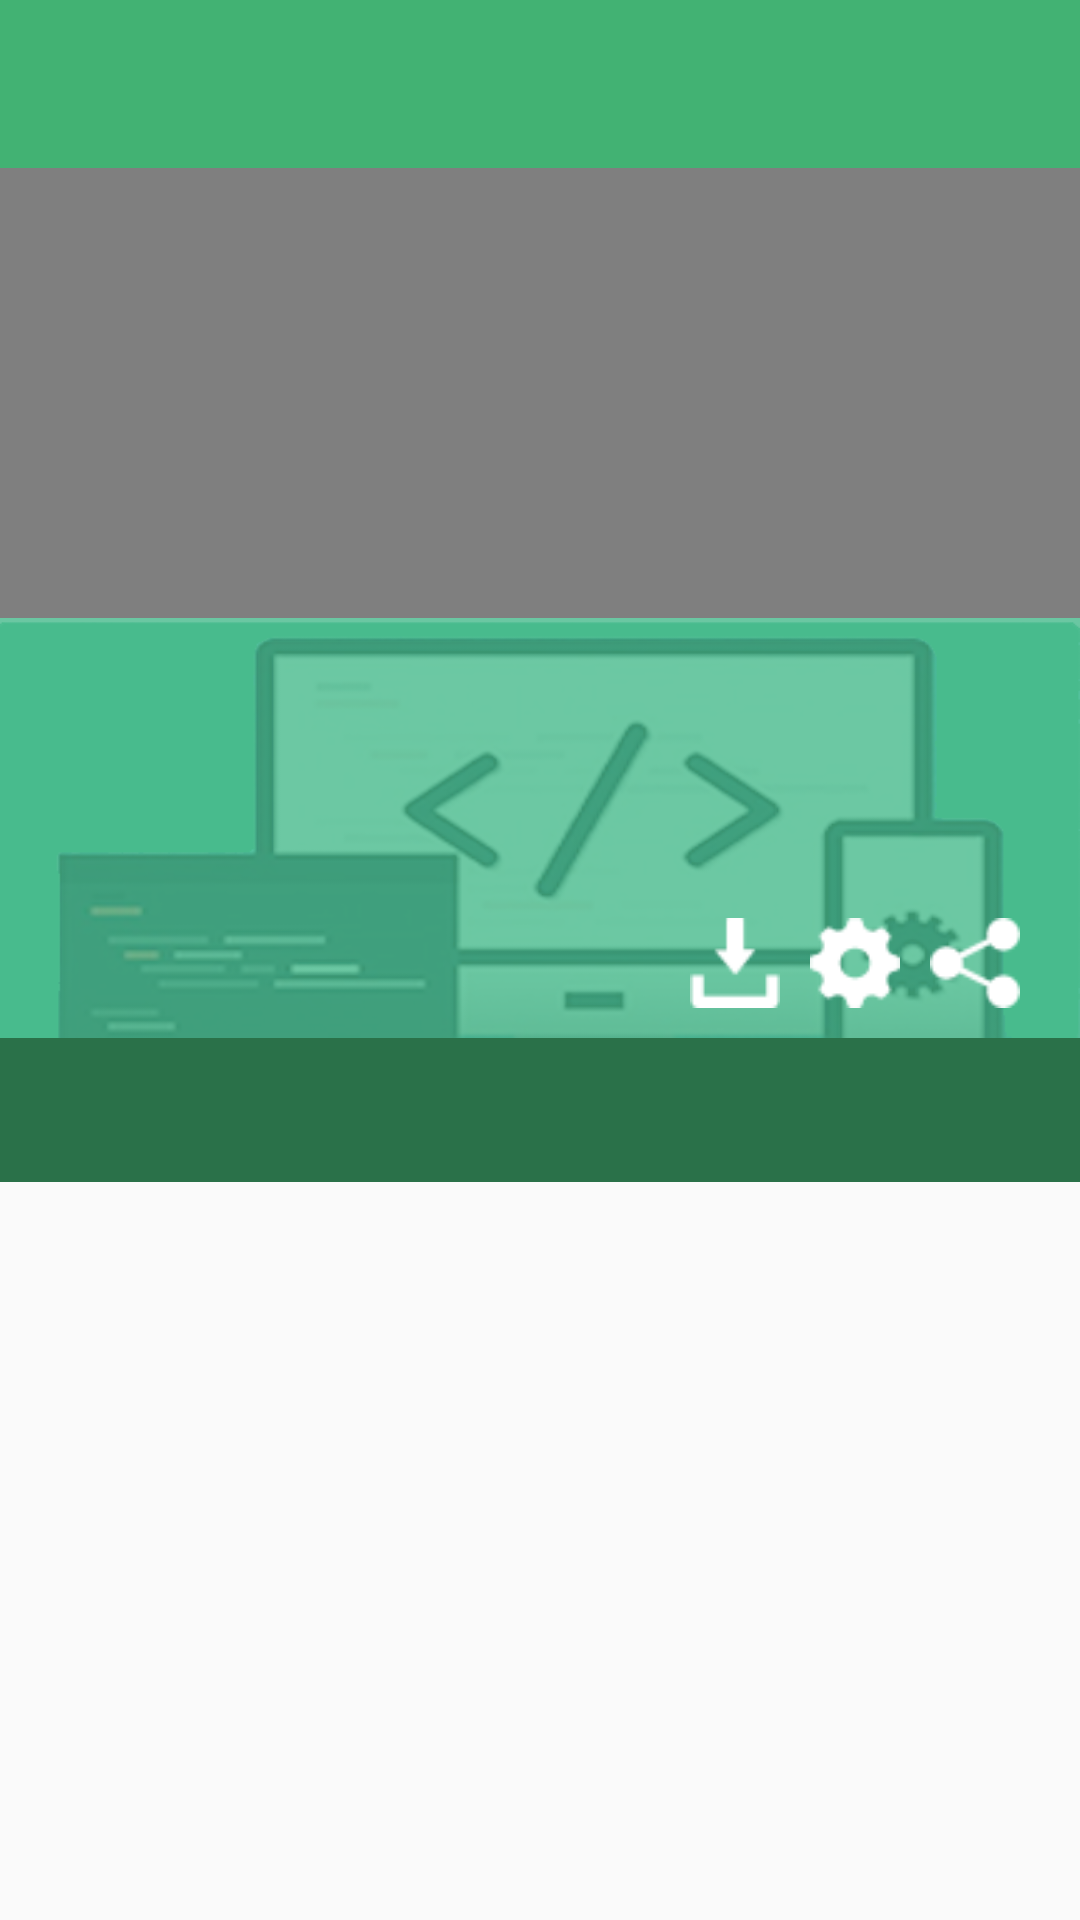

Icons on this 1080 x 1920 Android screen, each with the point to tap as [x,y]:
download: [735,963]
setting: [855,963]
share: [975,963]
